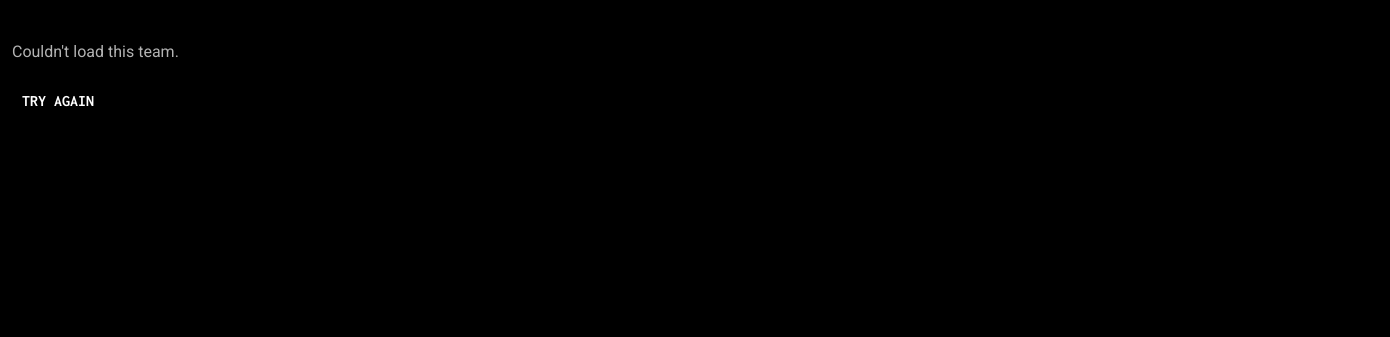
Scenario: loading unsaved teams and leagues › offers a retry when the fetch fails
The width and height of the screenshot is (1390, 337).
Expected: the text "Couldn't load this team." is shown, top-left (12, 42), bottom-right (179, 61)
Click the button "Try again": (58, 100) top-left (12, 77), bottom-right (1378, 124)
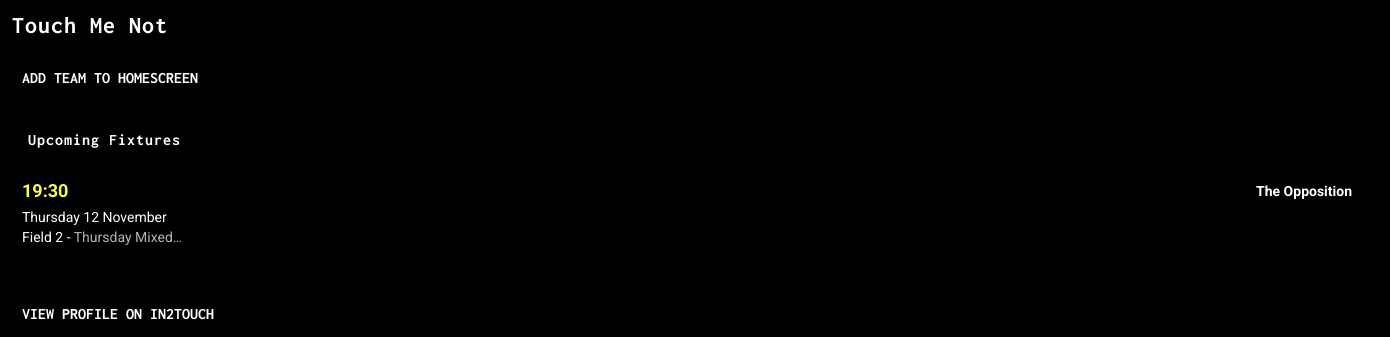
Expected: the heading "Touch Me Not" is shown, top-left (12, 12), bottom-right (168, 38)
